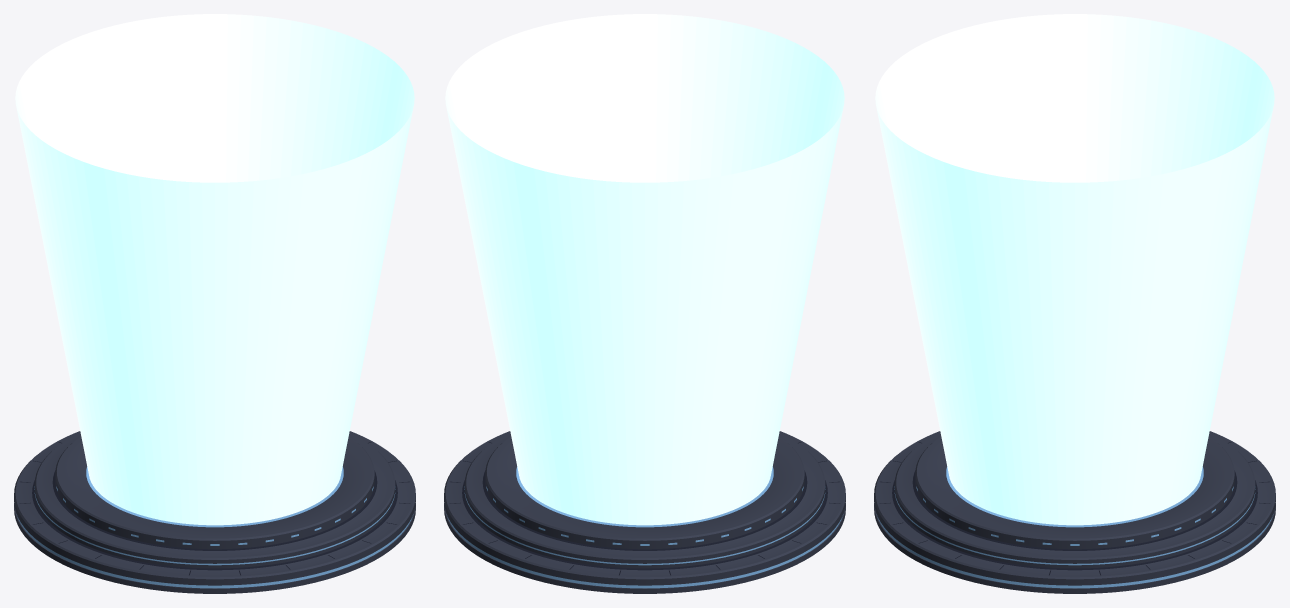
File: Podium.fbx
3 views of the same model, side by side, from view 1: azimuth 30°, elevation 25°; view 2: azimuth 150°, elevation 25°; view 3: azimuth 270°, elevation 25° (orthographic).
Visible parts, largest first — view 1: Podium_Beam, Podium; view 2: Podium_Beam, Podium; view 3: Podium_Beam, Podium.
Boxes of the visible parts, x1,y1,x2,y2 form: Podium_Beam: (15, 14, 414, 525); Podium: (14, 431, 415, 593); Podium_Beam: (445, 14, 844, 525); Podium: (444, 431, 845, 593); Podium_Beam: (875, 14, 1274, 525); Podium: (874, 431, 1275, 593).
Size of the model in its own units: 1.56 by 1.77 by 1.56.
